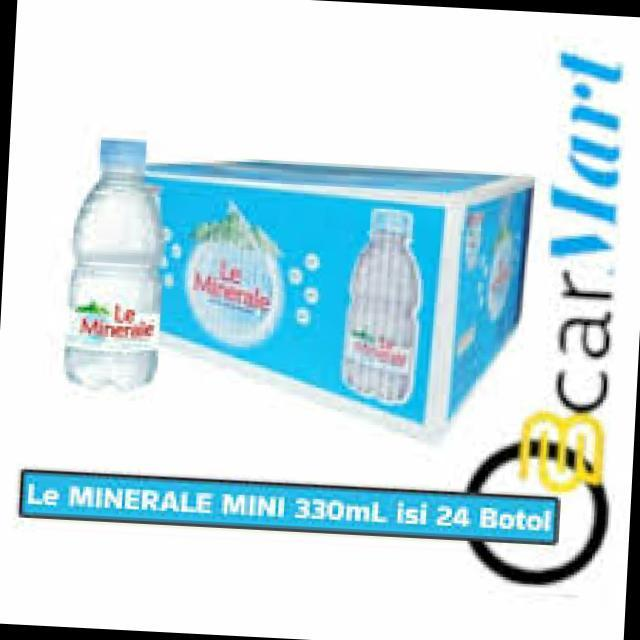good: (61, 136, 175, 396)
